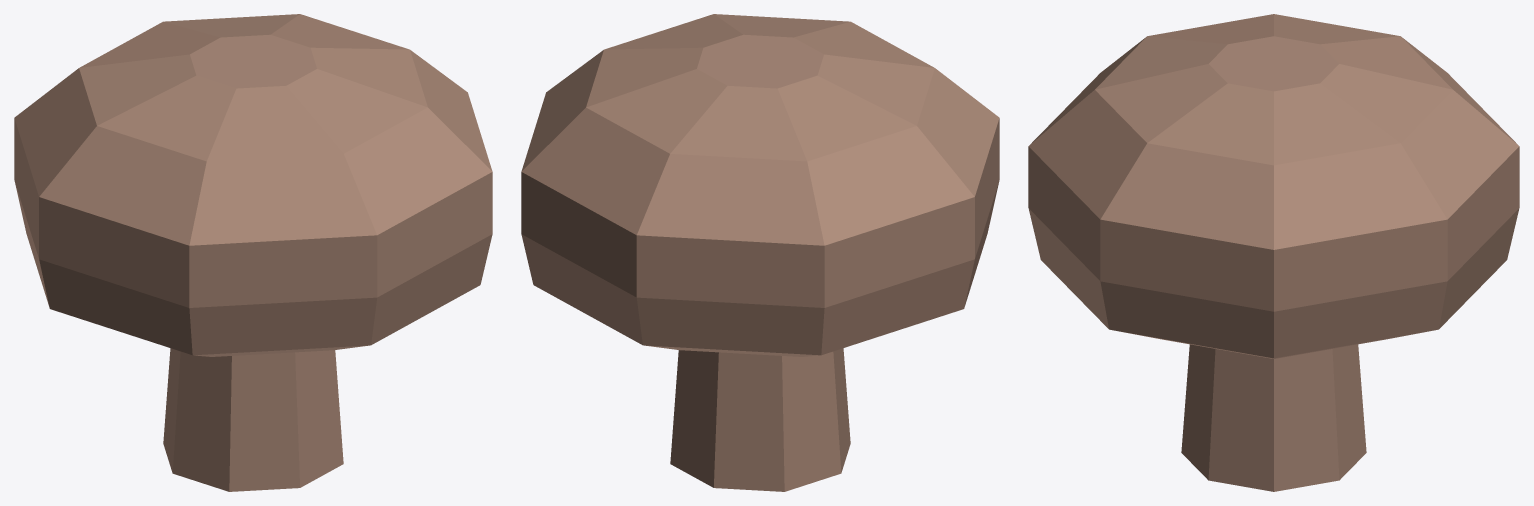
File: mushroom.fbx
3 renders of one model, left to right at view 1: azimuth 30°, elevation 25°; view 2: azimuth 150°, elevation 25°; view 3: azimuth 270°, elevation 25°, orthographic.
Visible parts, largest first — view 1: Cylinder.042; view 2: Cylinder.042; view 3: Cylinder.042.
Part boxes in pixels (x1,y1,x2,y2): Cylinder.042: [14, 14, 492, 491]; Cylinder.042: [521, 14, 999, 491]; Cylinder.042: [1028, 14, 1519, 491].
Bounding box in the file's own units: 4.6 × 4.02 × 4.6.
